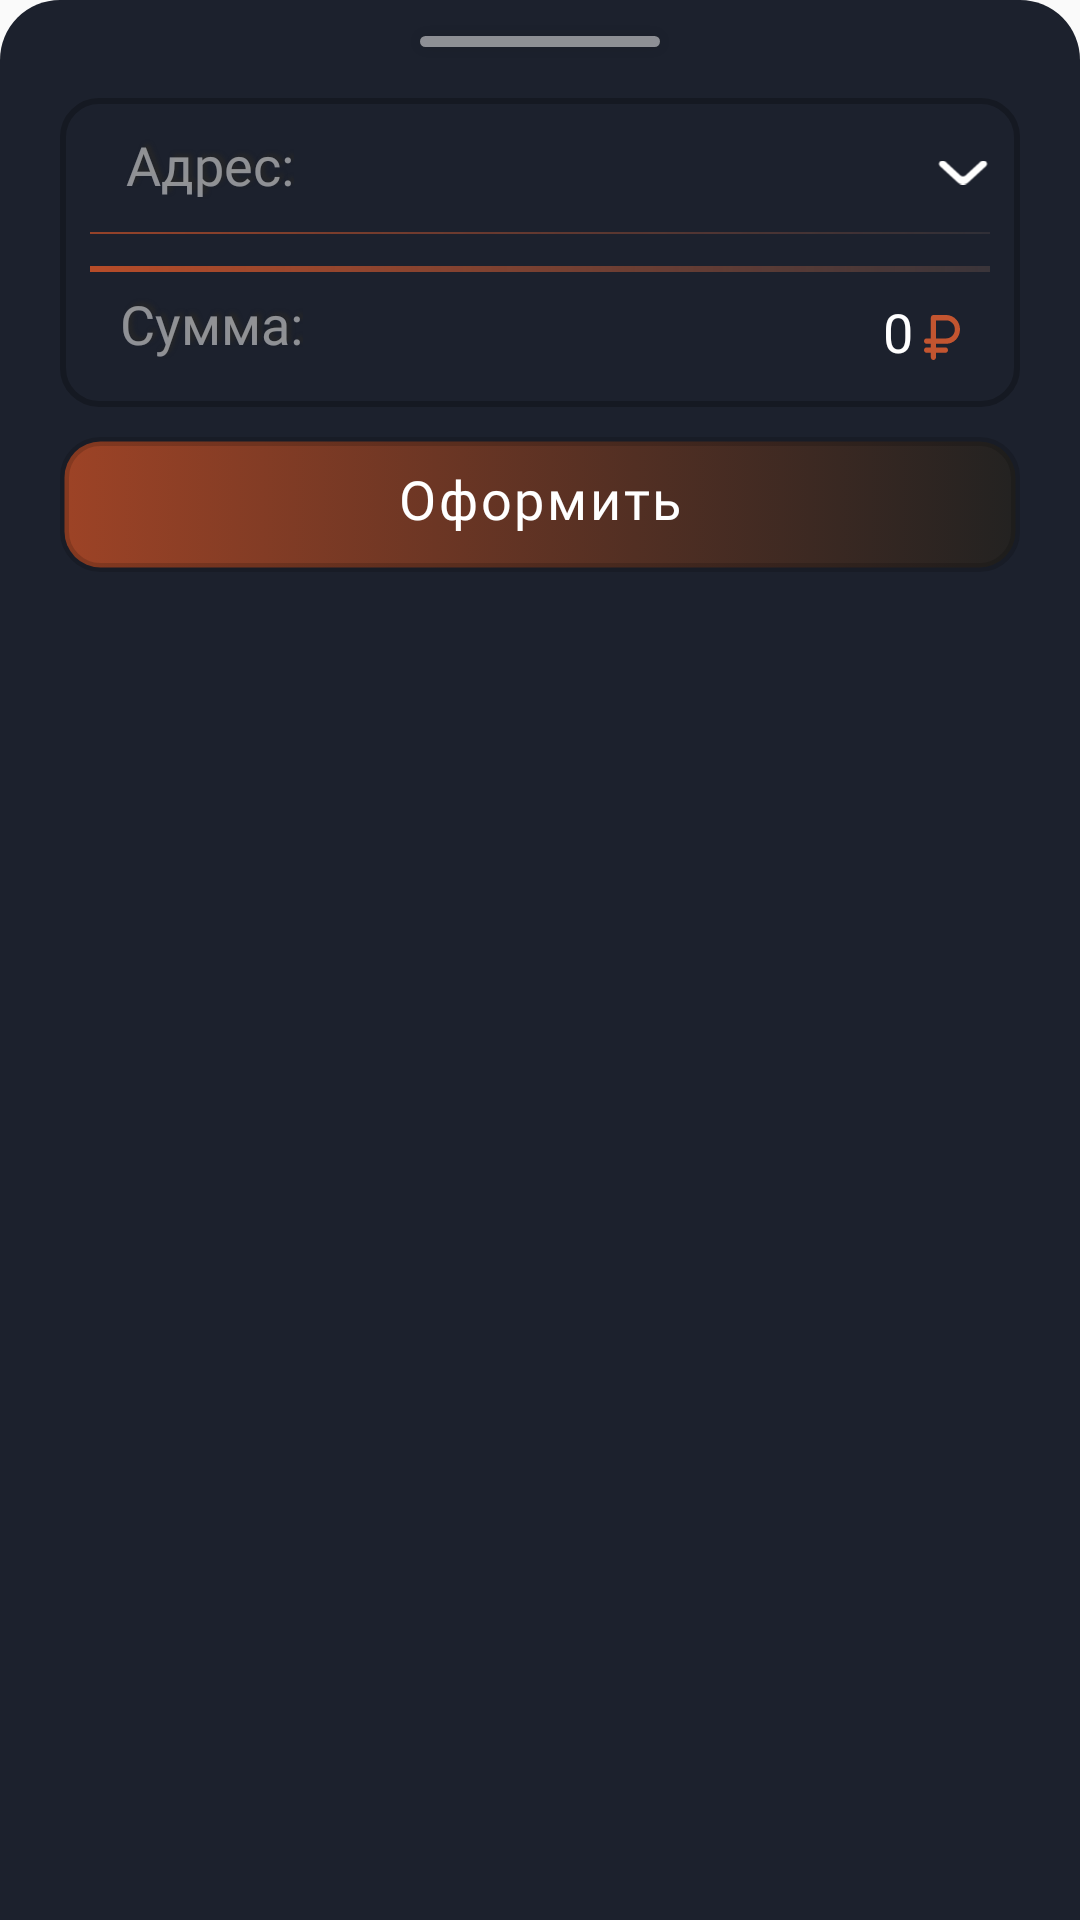

Named icons in this screenshot (1080px×1920px) and their bounding boxes, [x1, y1, x2, y2]:
rub: [924, 315, 960, 360]
